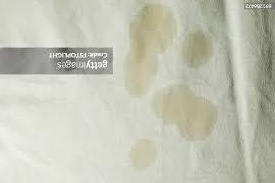oil: (126, 9, 172, 94), (152, 92, 214, 135), (180, 38, 216, 65), (130, 141, 160, 172)
